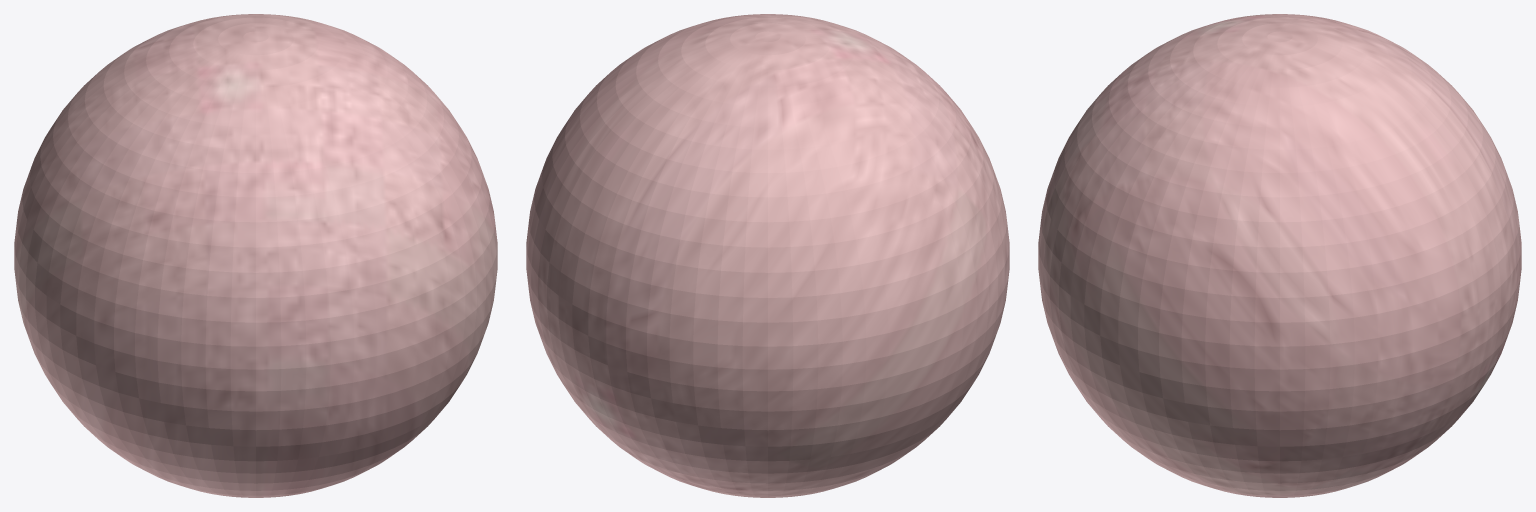
3 views of the same model, side by side, from view 1: azimuth 30°, elevation 25°; view 2: azimuth 150°, elevation 25°; view 3: azimuth 270°, elevation 25° (orthographic).
Size of the model in its own units: 0.02 by 0.02 by 0.02.
Materials: 1 (1 with a texture image).
